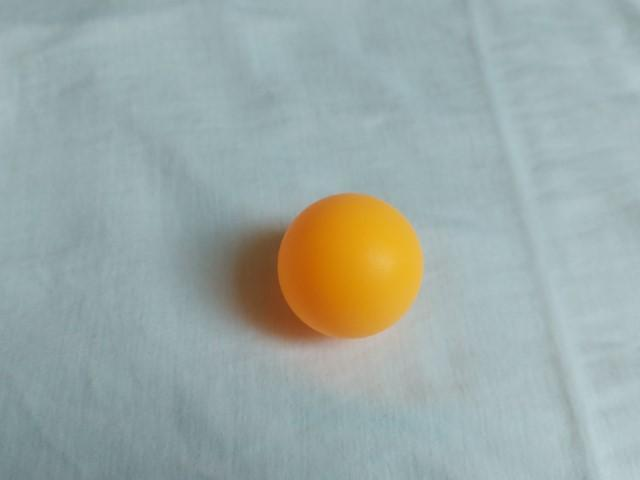oball: (262, 184, 436, 351)
